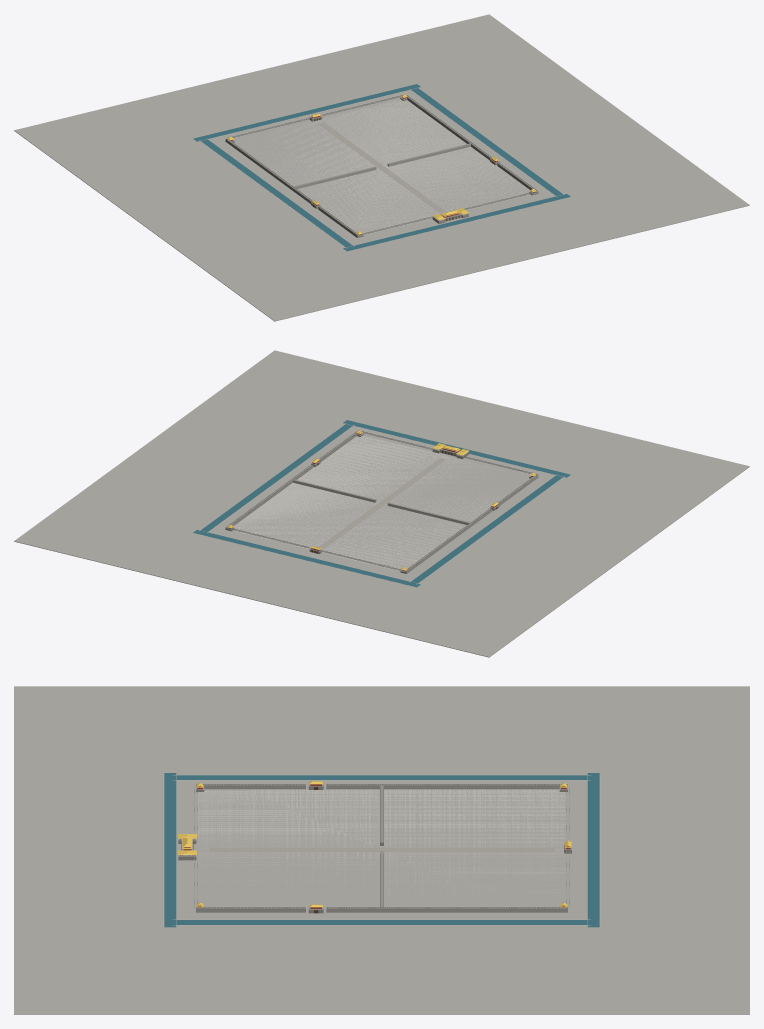
The model's file is FC_site.glb.
The picture shows the model from 3 angles, top to bottom: view 1: azimuth 30°, elevation 25°; view 2: azimuth 150°, elevation 25°; view 3: azimuth 270°, elevation 25°; orthographic projection. The views are drawn at different scales.
Visible parts, largest first — view 1: OBJ_earth, OBJ_paving, OBJ_moat, OBJ_walls, OBJ_moatbank, OBJ_merlons, OBJ_axispath; view 2: OBJ_earth, OBJ_paving, OBJ_moat, OBJ_walls, OBJ_merlons, OBJ_moatbank, OBJ_axispath; view 3: OBJ_earth, OBJ_paving, OBJ_moat, OBJ_walls, OBJ_moatbank, OBJ_merlons, OBJ_axispath.
Boxes of the visible parts, box(x1,y1,x2,y2) form: OBJ_earth: box(14, 14, 749, 321); OBJ_paving: box(238, 99, 530, 234); OBJ_moat: box(193, 84, 570, 251); OBJ_walls: box(225, 95, 538, 237); OBJ_moatbank: box(193, 84, 570, 251); OBJ_merlons: box(226, 95, 538, 235); OBJ_axispath: box(318, 122, 445, 212); OBJ_earth: box(14, 350, 749, 657); OBJ_paving: box(233, 435, 523, 570); OBJ_moat: box(193, 420, 570, 587); OBJ_walls: box(225, 431, 538, 573); OBJ_merlons: box(226, 431, 537, 571); OBJ_moatbank: box(193, 420, 570, 587); OBJ_axispath: box(318, 458, 445, 548); OBJ_earth: box(14, 686, 749, 1014); OBJ_paving: box(197, 789, 566, 896); OBJ_moat: box(164, 773, 599, 927); OBJ_walls: box(196, 784, 567, 912); OBJ_moatbank: box(163, 773, 600, 926); OBJ_merlons: box(194, 784, 569, 908); OBJ_axispath: box(209, 848, 554, 852).
Size of the model in its own units: 2000 by 30.14 by 1900.
